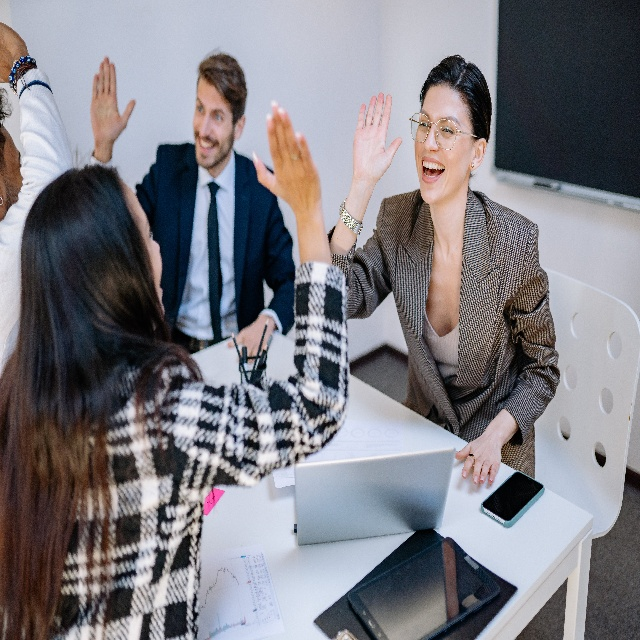Gafas: (408, 112, 480, 151)
Sin_guantes: (252, 97, 322, 218), (351, 92, 404, 187), (88, 54, 137, 150), (454, 431, 503, 486), (0, 20, 28, 84)
